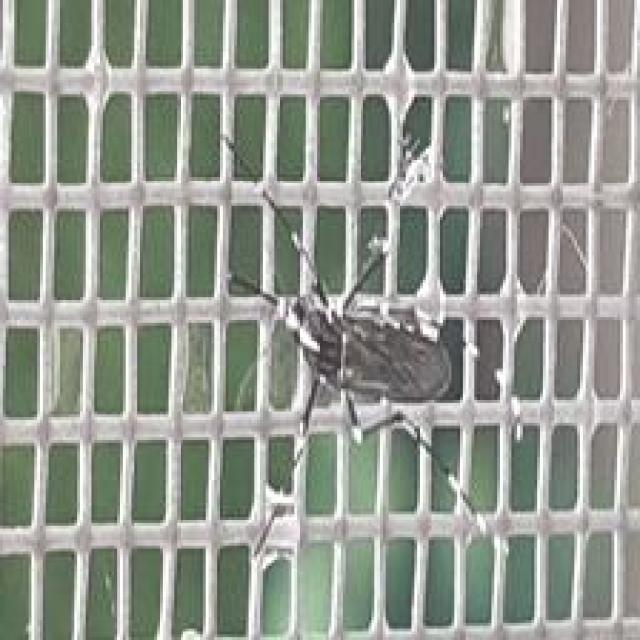Aedes albopictus: (217, 133, 489, 558)
